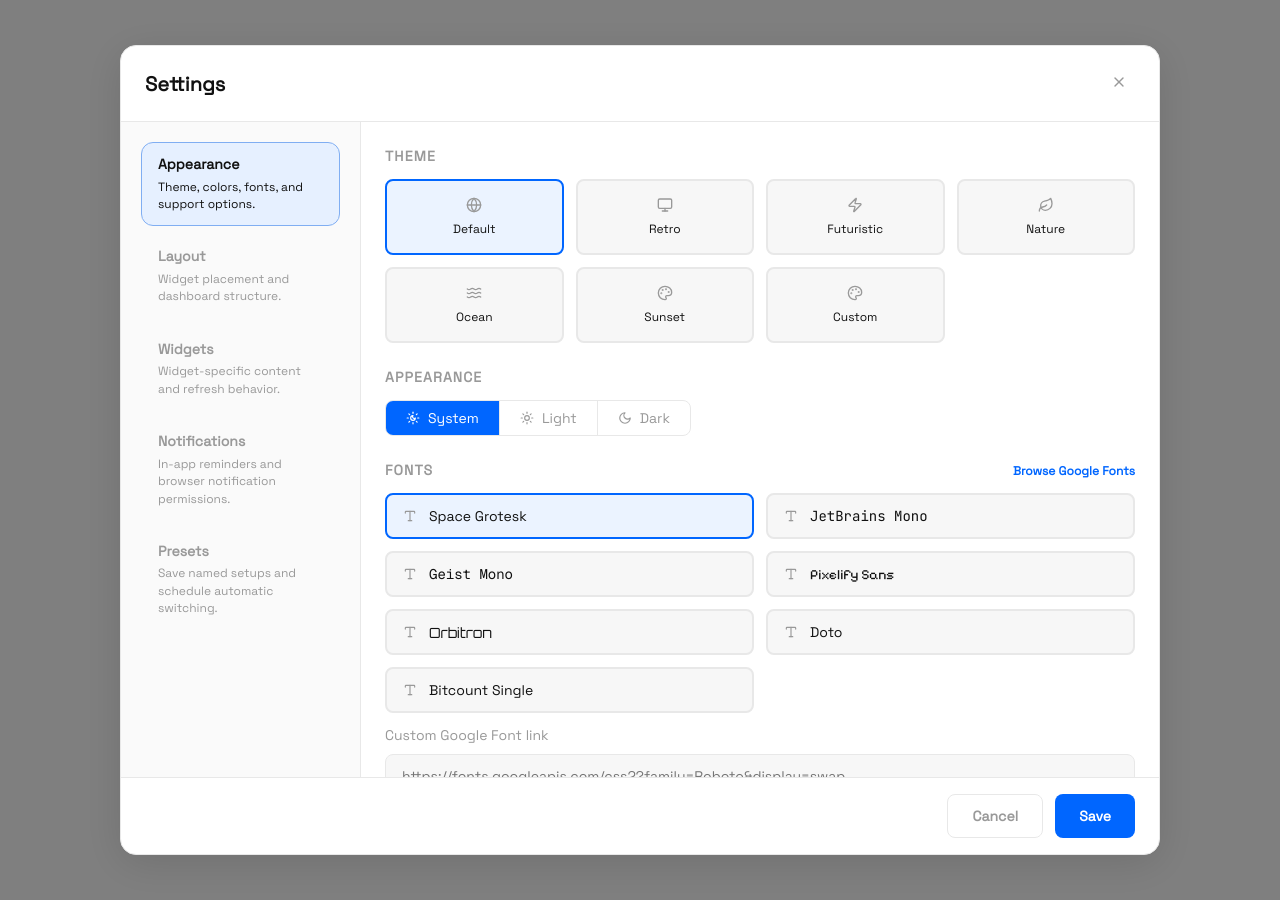
Scenario: SettingsDialog › renders only visible widgets in the 3x2 mini-grid
Click the tab "Layout Widget placement and dashboard structure.": (240, 277) [141,234,340,319]
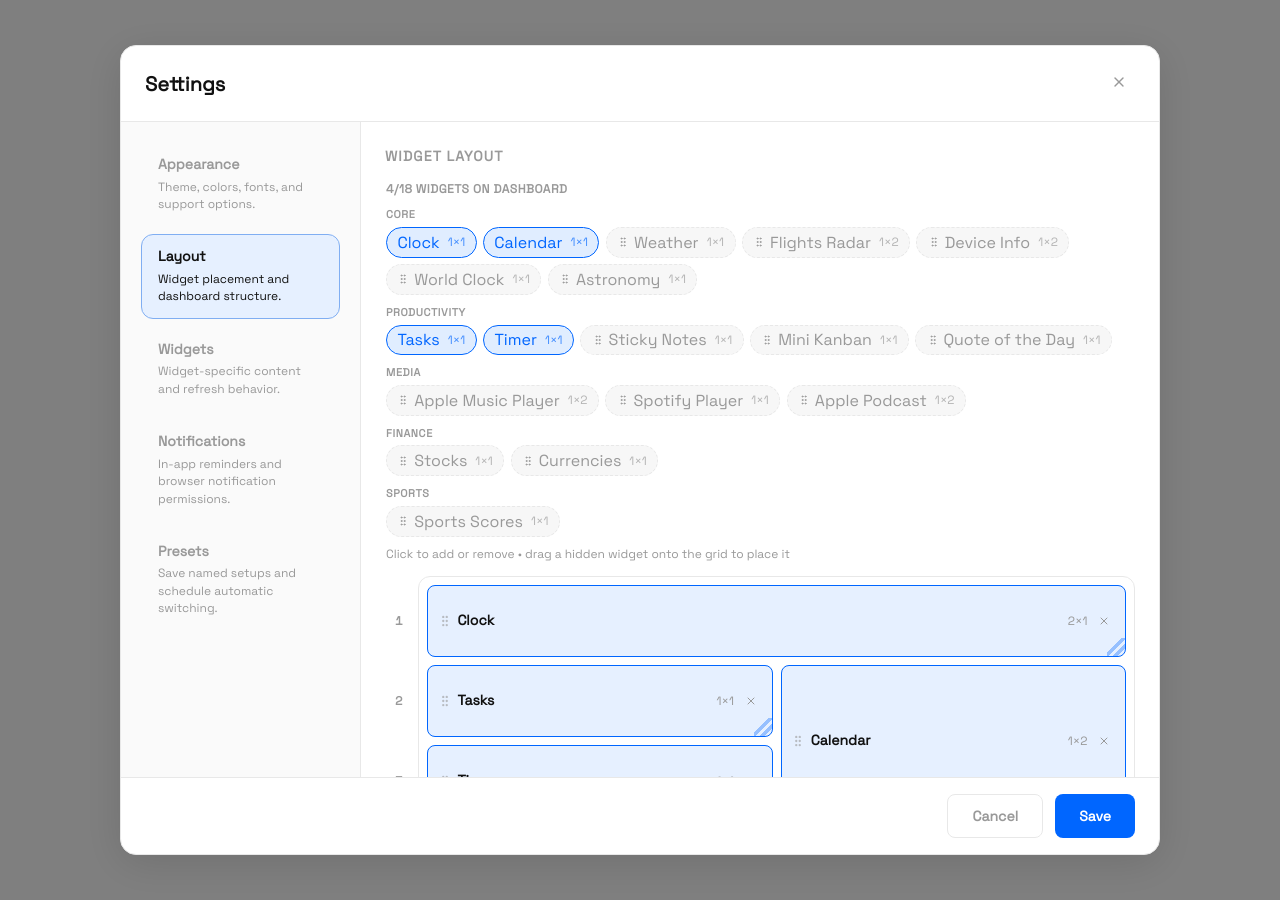
Result: the element with test id "layout-widget-clock" is shown at [427,585,1126,657]
Result: the element with test id "layout-widget-calendar" is shown at [781,665,1126,777]
Result: the element with test id "layout-widget-tasks" is shown at [427,665,773,737]
